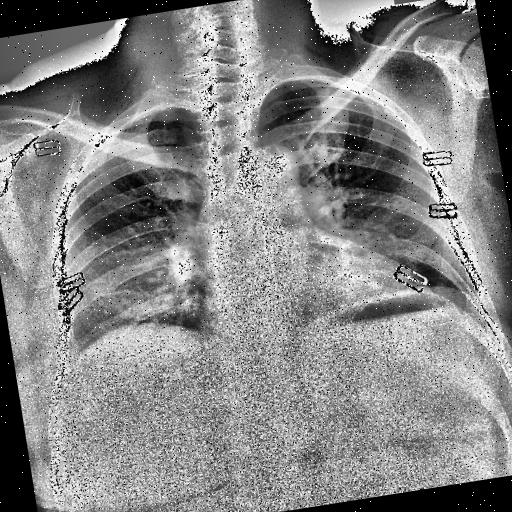0- Aortic enlargement: (238, 142, 305, 212), (240, 143, 304, 215), (241, 140, 300, 193)
3- Cardiomegaly: (194, 256, 416, 362)
9- Other lesion: (122, 274, 198, 324)
